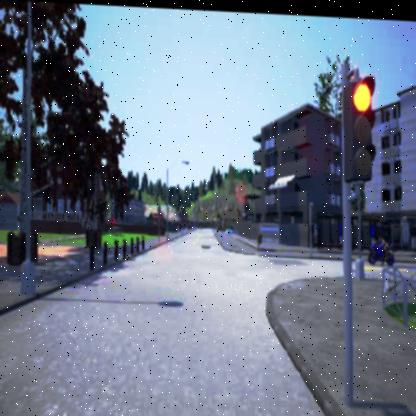motobike: (367, 235, 395, 260)
